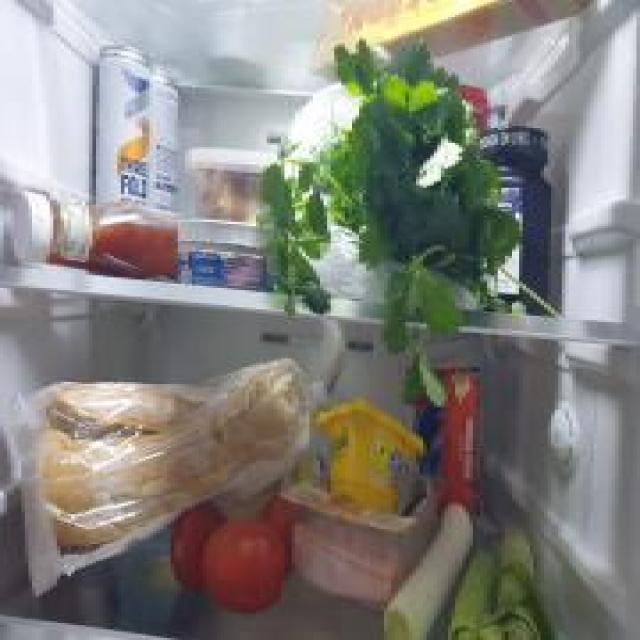cheese: (180, 220, 282, 296)
leek: (474, 522, 563, 640)
marmelade: (480, 120, 565, 314)
tomato: (198, 524, 286, 613), (169, 500, 229, 592), (261, 493, 290, 576)
tomato_sauce: (444, 370, 484, 522)
